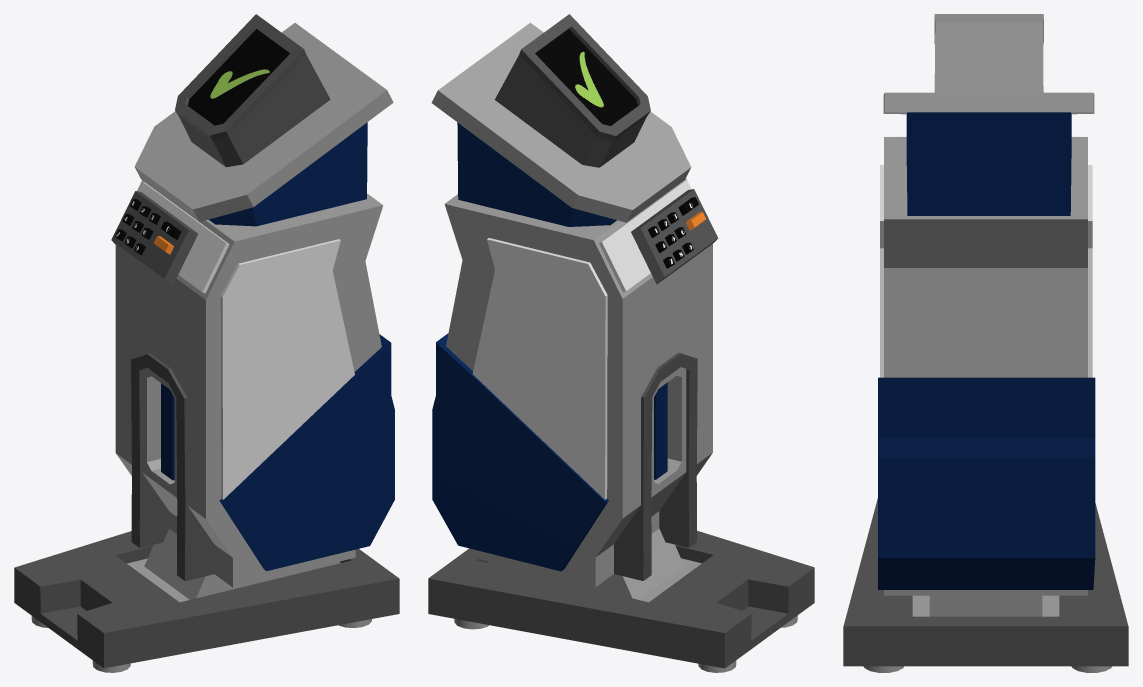
File: F_Identy_01.fbx
3 views of the same model, side by side, from view 1: azimuth 30°, elevation 25°; view 2: azimuth 150°, elevation 25°; view 3: azimuth 270°, elevation 25° (orthographic). The views are drawn at different scales.
Visible parts, largest first — view 1: F_Identy_01.001; view 2: F_Identy_01.001; view 3: F_Identy_01.001.
Part boxes in pixels (left/top/right/bottom): F_Identy_01.001: left=14, top=14, right=399, bottom=672; F_Identy_01.001: left=428, top=14, right=814, bottom=672; F_Identy_01.001: left=843, top=14, right=1128, bottom=672.
Bounding box in the file's own units: 49.37 × 91.22 × 37.08.
Materials: 1 (1 with a texture image).
